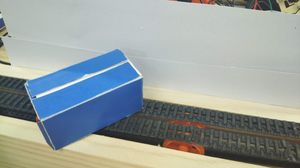box3: (23, 48, 143, 151)
